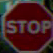Stop: (3, 8, 49, 42)
